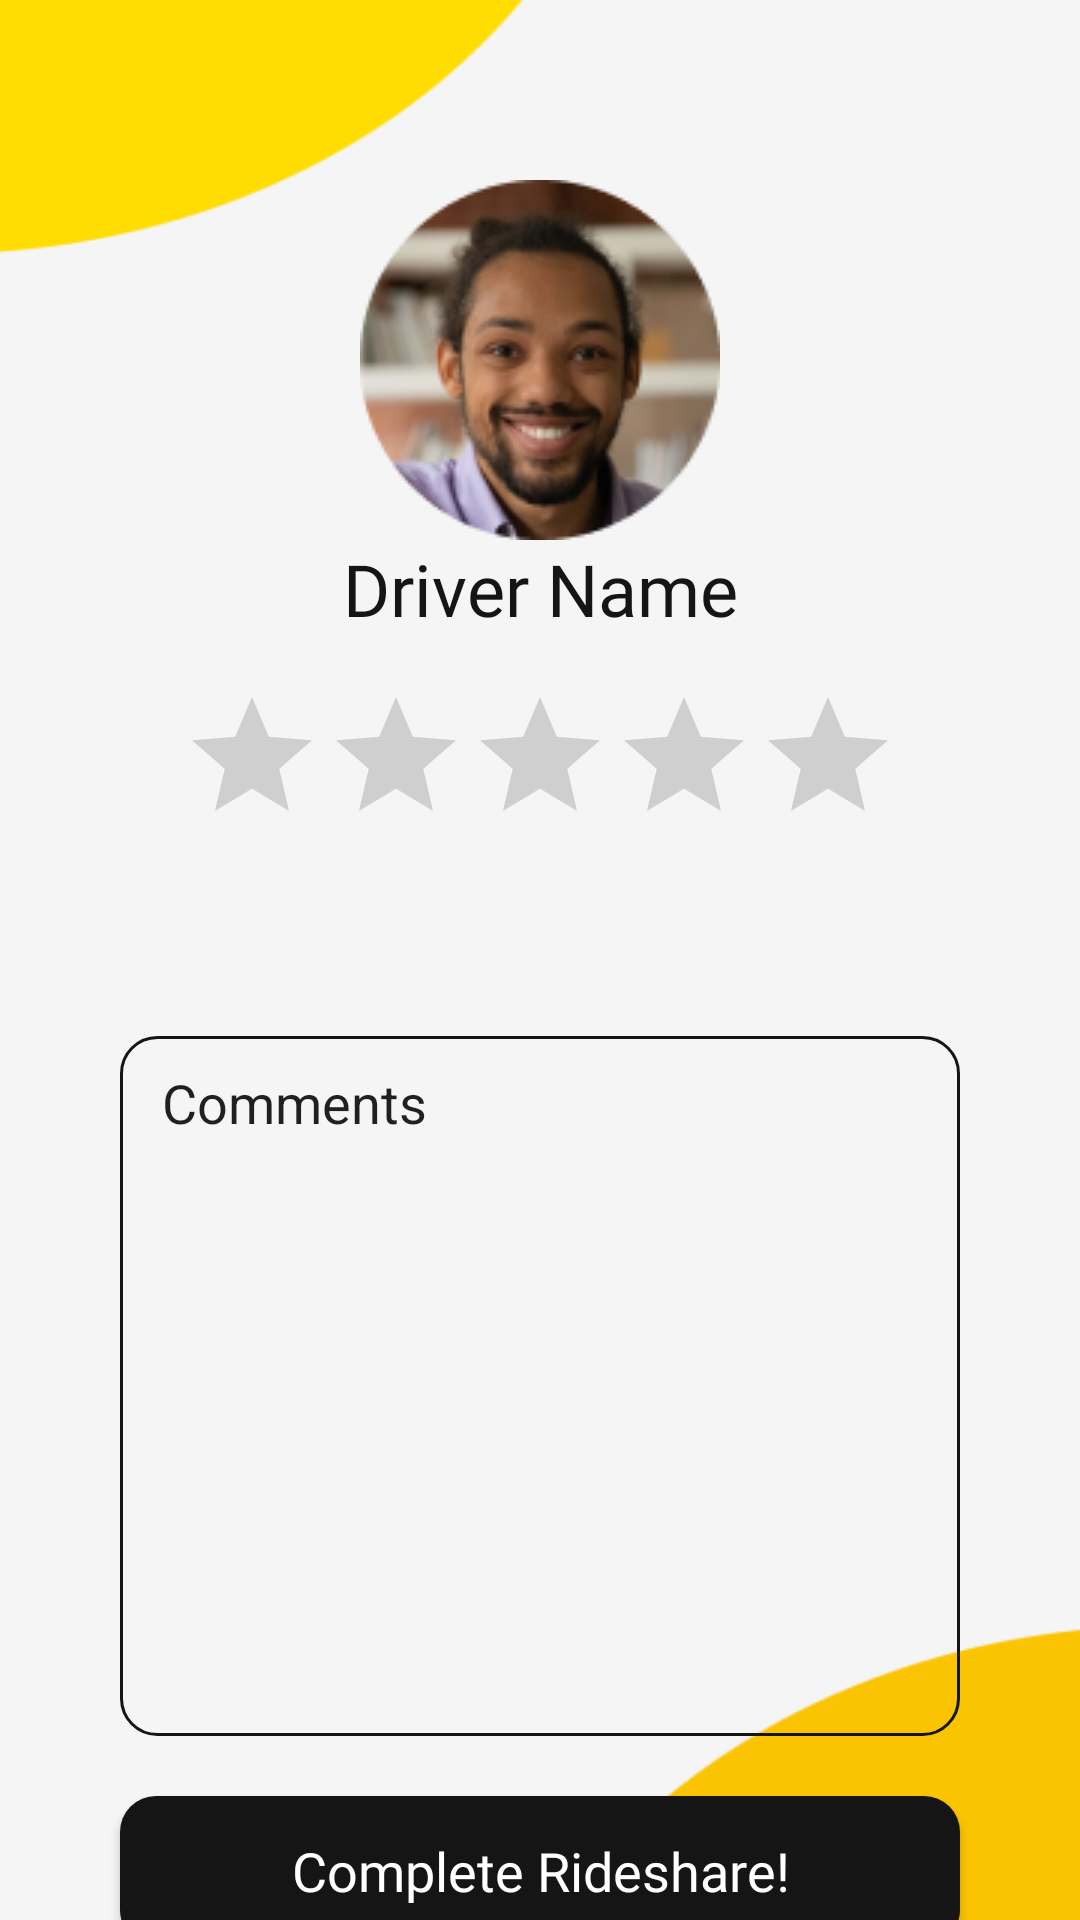

Locate icon controls on the screen. Image size 1080*1920, boxes as bbox(x1, y1, x2, y2).
profile picture: bbox(360, 180, 720, 540)
